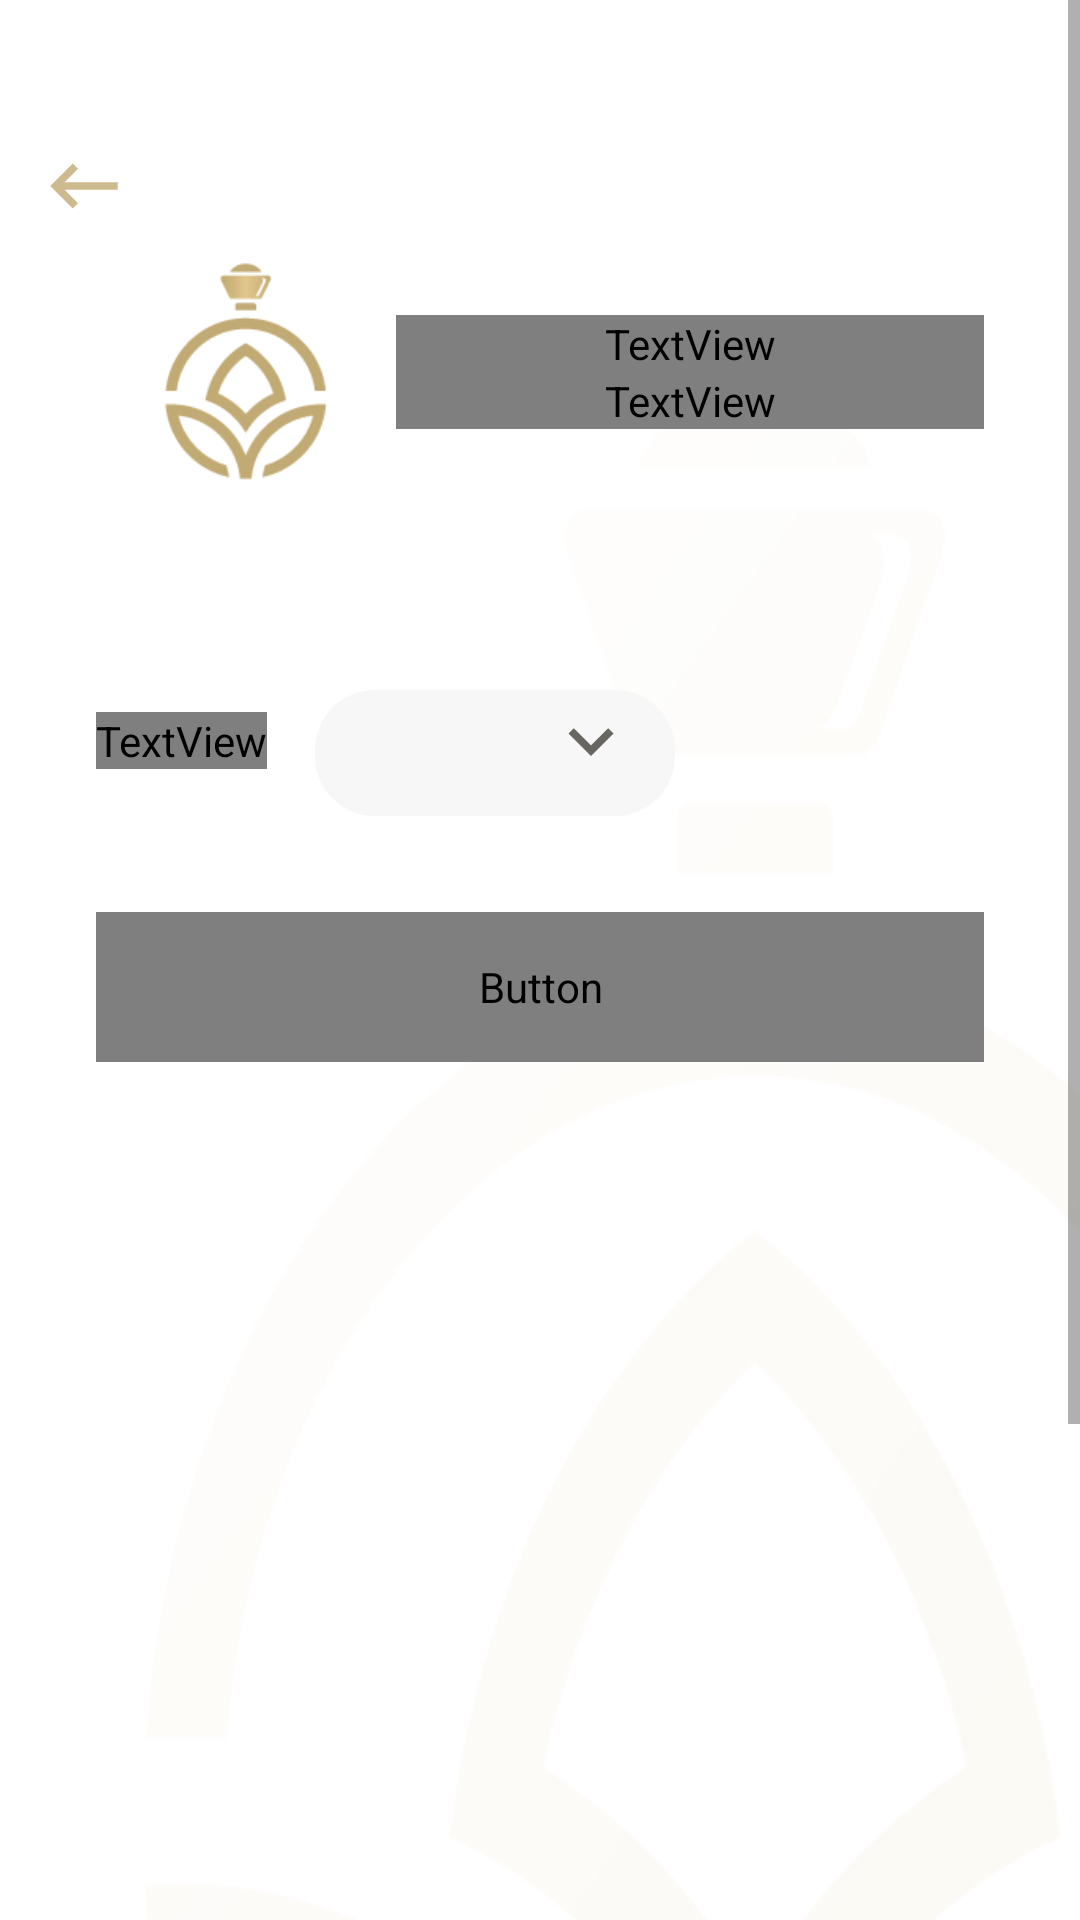

Locate icon controls on the screen. Image size 1080x1920, boxes as Rect(x1, y1, x2, y2).
back: Rect(50, 163, 118, 208)
